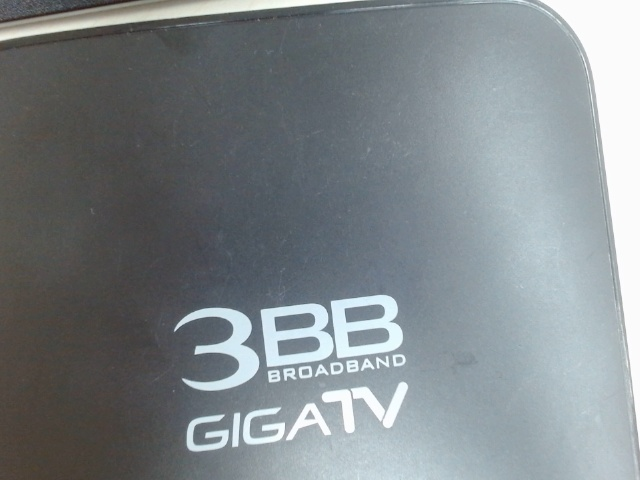AG_3BB: (151, 285, 442, 461)
